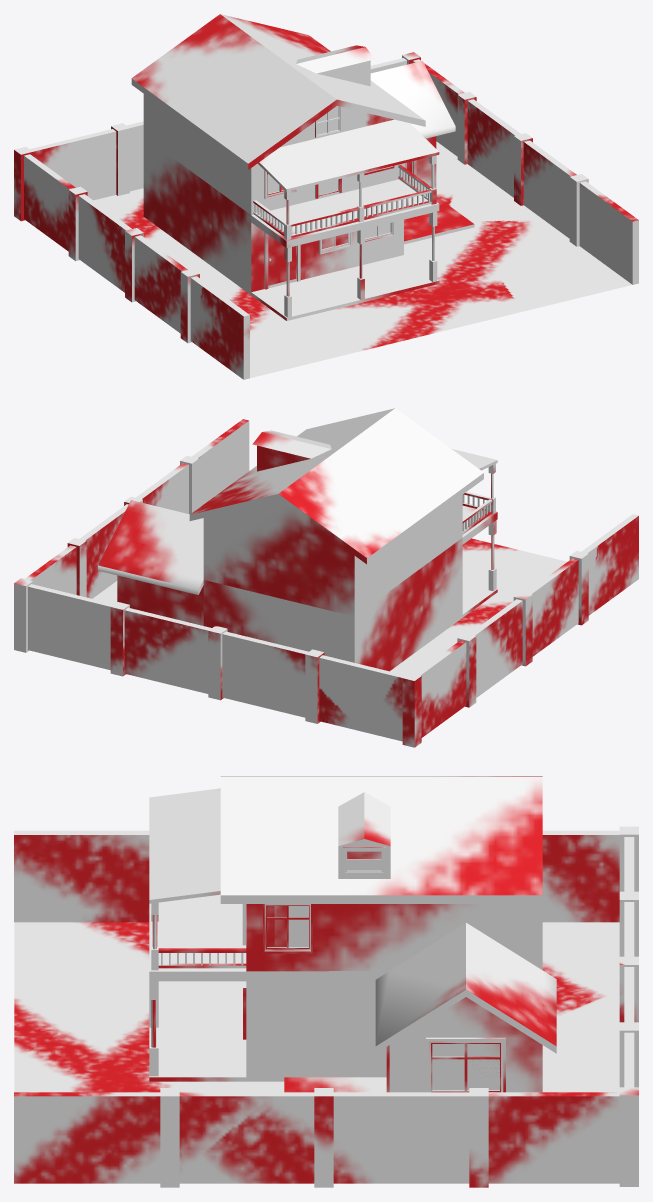
The model's file is house.fbx.
3 views of the same model, one above another, from view 1: azimuth 30°, elevation 25°; view 2: azimuth 150°, elevation 25°; view 3: azimuth 270°, elevation 25° (orthographic). The views are drawn at different scales.
Parts seen in each view (by area): view 1: house1, polymsh, ground; view 2: house1, polymsh, ground; view 3: house1, polymsh, ground.
Part boxes in pixels (x1=…): house1: x1=131, y1=14, x2=474, y2=320; polymsh: x1=14, y1=52, x2=638, y2=379; ground: x1=93, y1=141, x2=632, y2=378; house1: x1=98, y1=408, x2=497, y2=671; polymsh: x1=14, y1=419, x2=638, y2=747; ground: x1=92, y1=538, x2=567, y2=675; house1: x1=149, y1=776, x2=556, y2=1092; polymsh: x1=14, y1=826, x2=638, y2=1187; ground: x1=14, y1=922, x2=619, y2=1092.
Bounding box in the file's own units: 212 × 93.97 × 208.
1 material, 1 textured.
